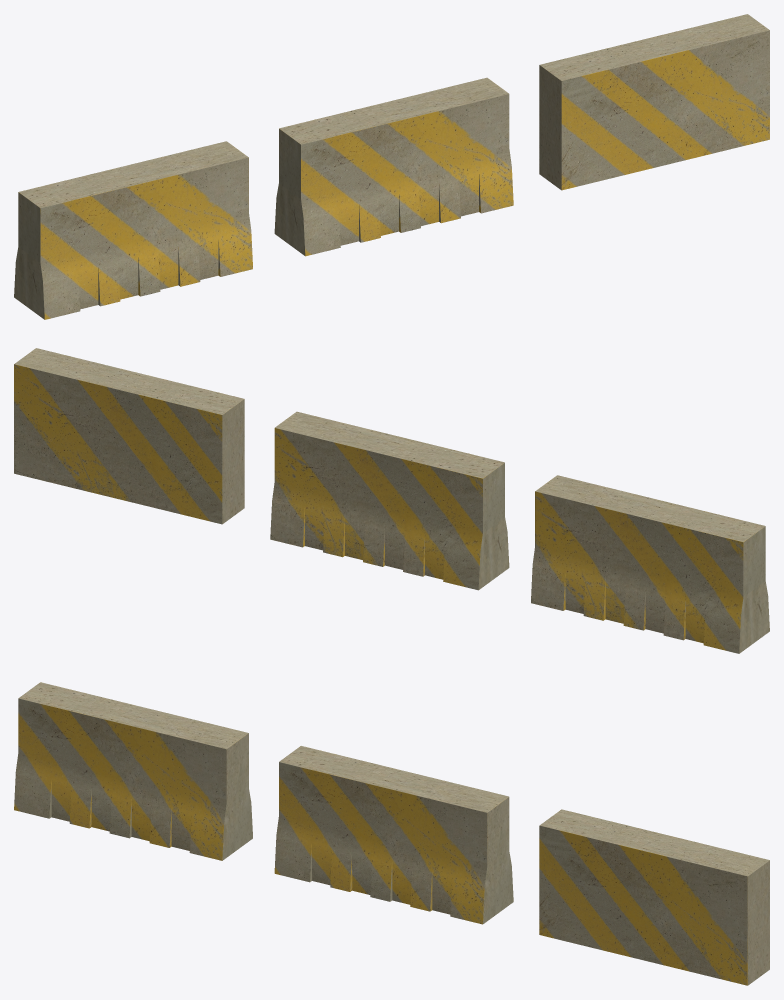
File: concrete_road_barrier.glb
3 views of the same model, one above another, from view 1: azimuth 30°, elevation 25°; view 2: azimuth 150°, elevation 25°; view 3: azimuth 330°, elevation 25° (orthographic).
Visible parts, largest first — view 1: Cube, Cube.002, Cube.001; view 2: Cube, Cube.002, Cube.001; view 3: Cube, Cube.002, Cube.001.
Part boxes in pixels (x1,y1,x2,y2): Cube: [274, 77, 513, 256]; Cube.002: [14, 141, 252, 319]; Cube.001: [539, 14, 769, 190]; Cube: [270, 411, 509, 590]; Cube.002: [531, 475, 769, 653]; Cube.001: [14, 348, 244, 524]; Cube: [274, 746, 513, 924]; Cube.002: [14, 682, 252, 860]; Cube.001: [539, 809, 769, 985].
Bounding box in the file's own units: 14 × 2.01 × 1.02.
3 materials, 3 textured.
